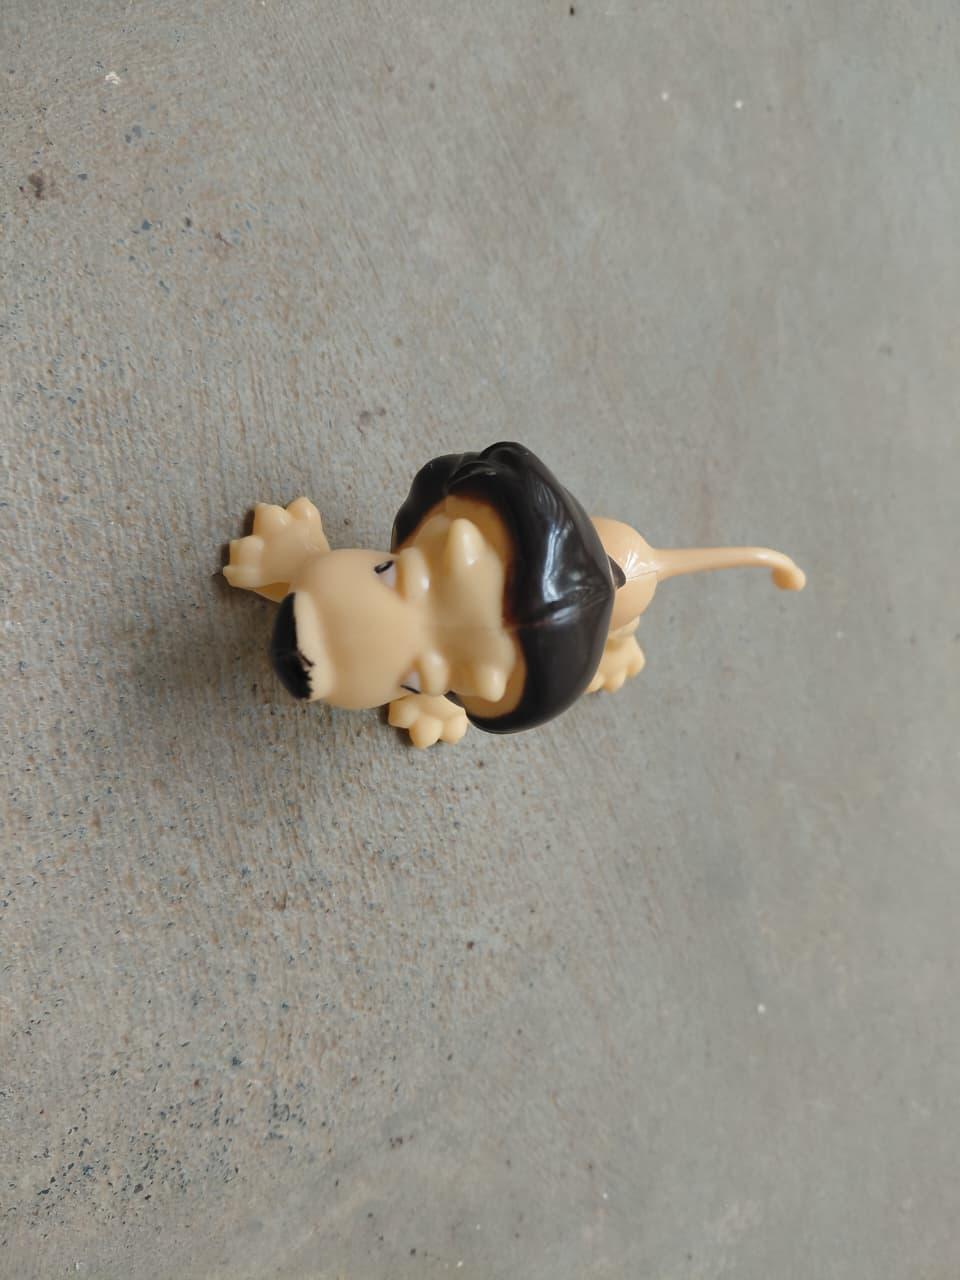lion: (218, 415, 828, 775)
